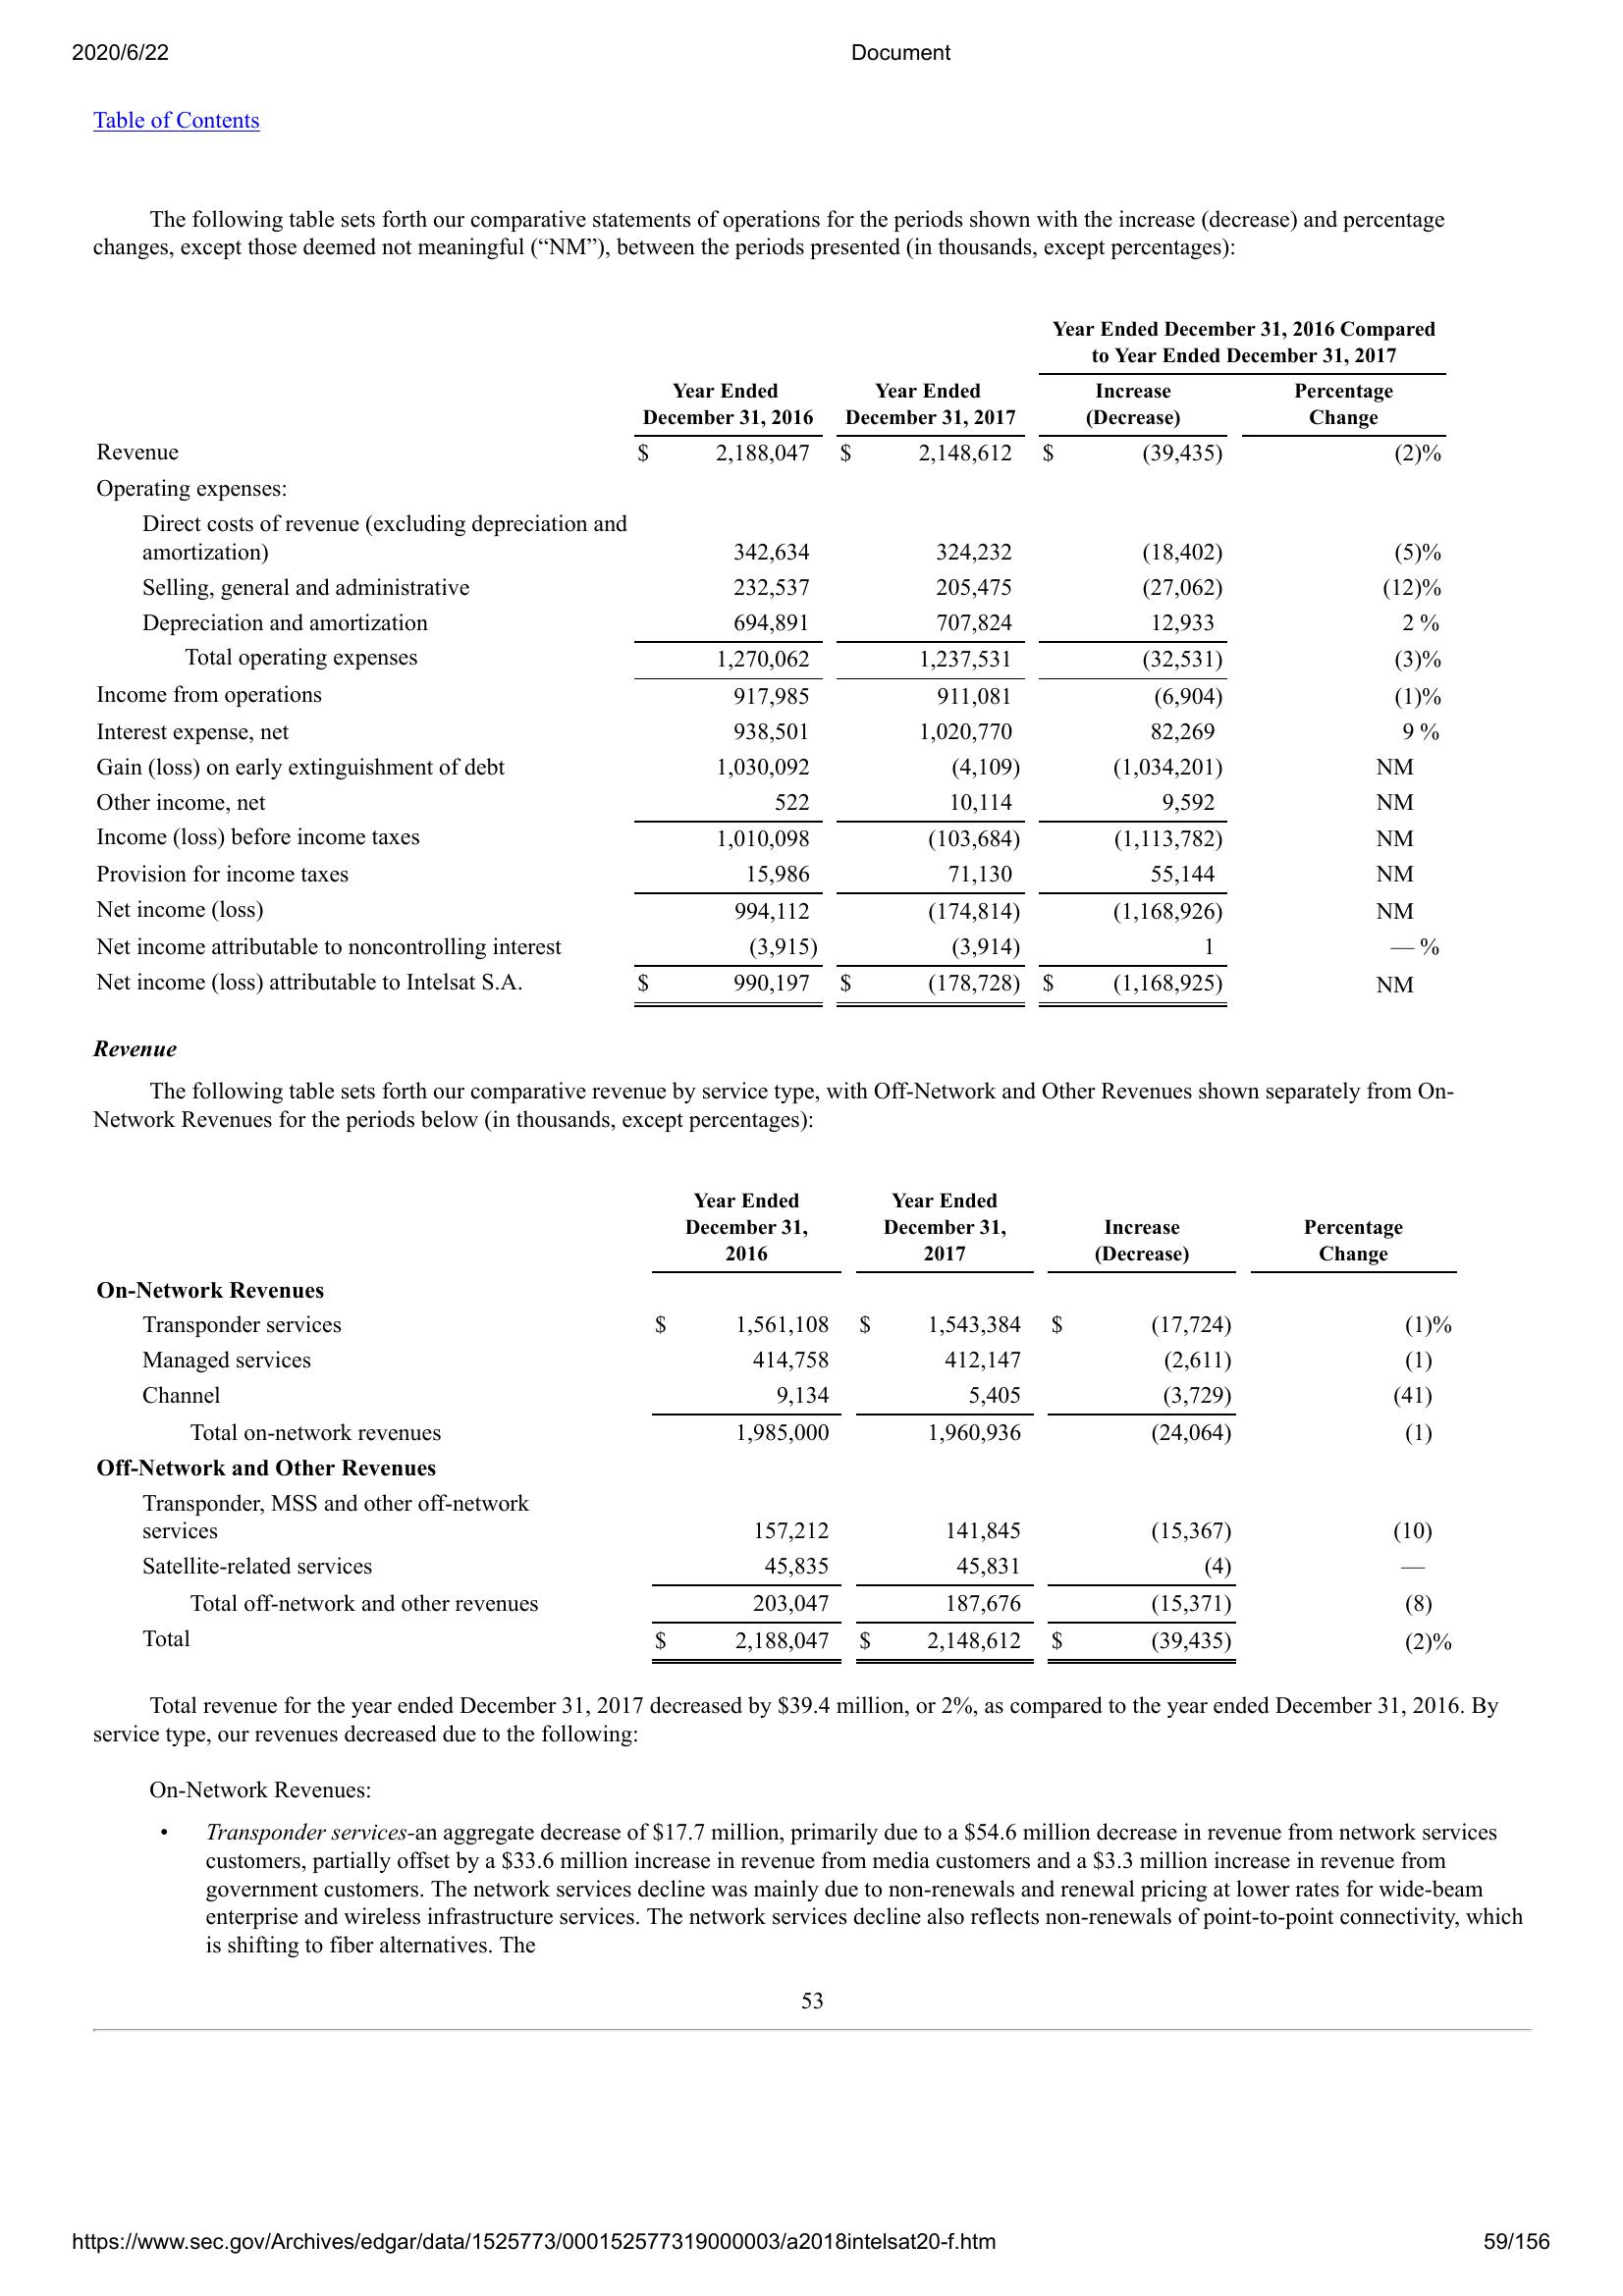table: (84, 318, 1453, 1011), (79, 1187, 1461, 1671)
